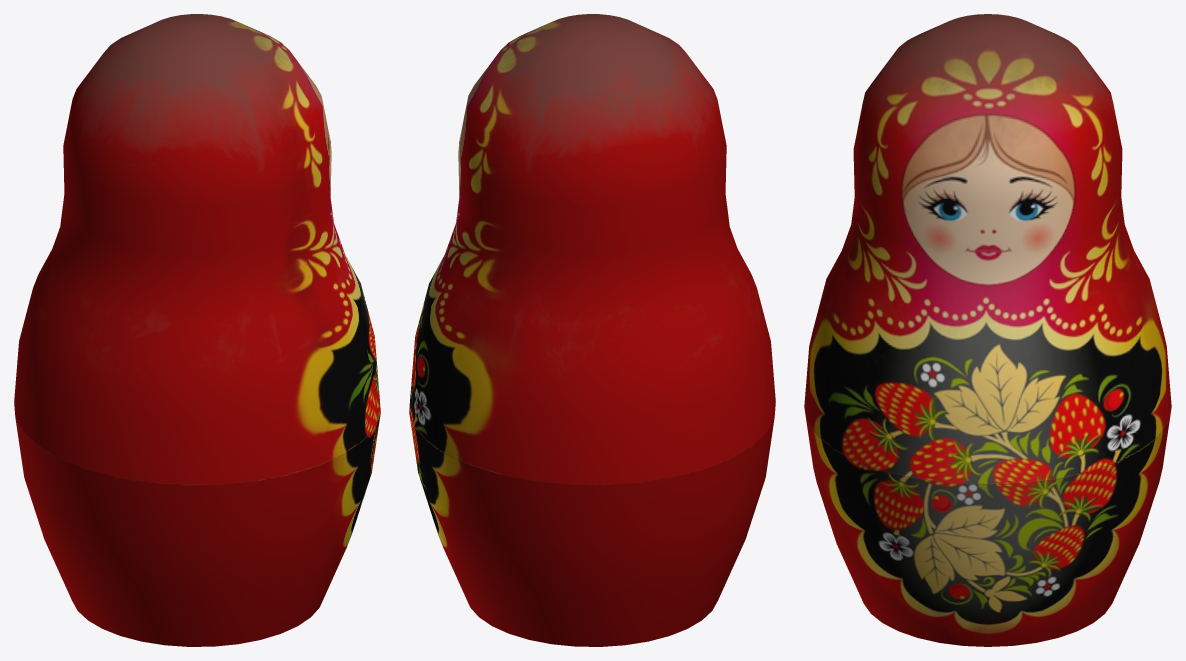
File: mdoll.glb
3 renders of one model, left to right at view 1: azimuth 30°, elevation 25°; view 2: azimuth 150°, elevation 25°; view 3: azimuth 270°, elevation 25°, orthographic.
Parts seen in each view (by area): view 1: Matroska top, Matroska bottom; view 2: Matroska top, Matroska bottom; view 3: Matroska top, Matroska bottom.
Boxes of the visible parts, <box> form: Matroska top: <box>14,14,380,484</box>; Matroska bottom: <box>15,413,380,646</box>; Matroska top: <box>409,14,775,484</box>; Matroska bottom: <box>409,413,774,646</box>; Matroska top: <box>804,14,1171,484</box>; Matroska bottom: <box>804,409,1171,646</box>.
Size of the model in its own units: 17.65 by 30.01 by 17.65.
1 material, 1 textured.
